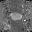people: (11, 12, 23, 22)
